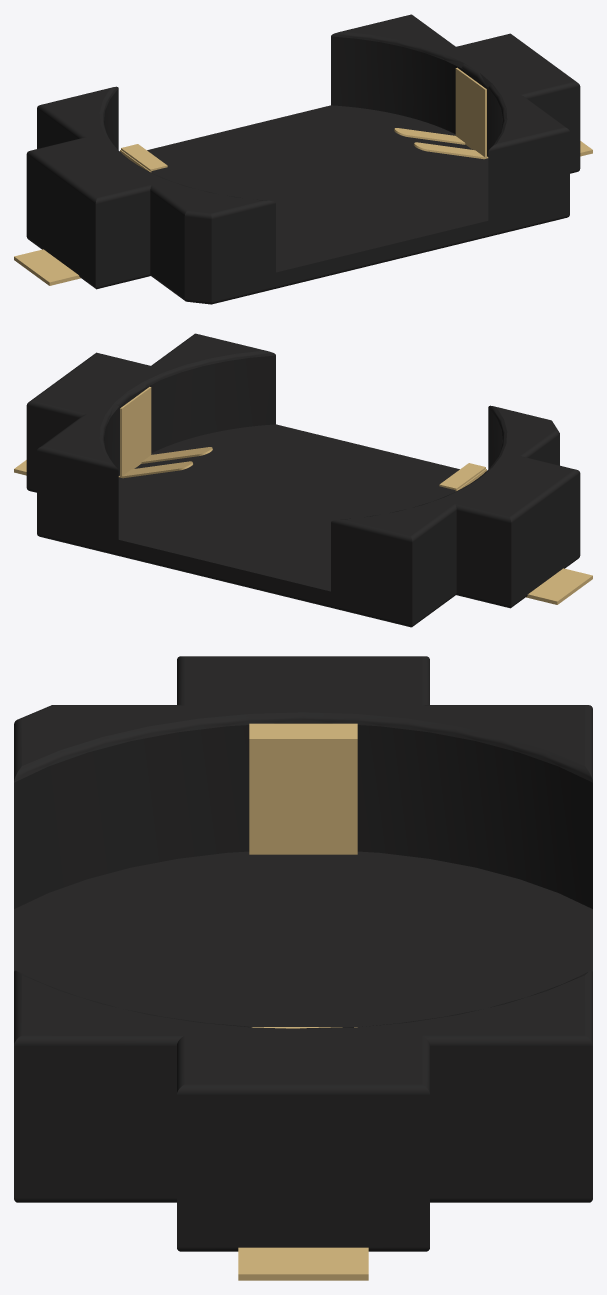
Rendered from kc-batteryholder_keystone_1060_1x2032.glb.
3 renders of one model, top to bottom at view 1: azimuth 30°, elevation 25°; view 2: azimuth 150°, elevation 25°; view 3: azimuth 270°, elevation 25°, orthographic. The views are drawn at different scales.
Visible parts, largest first — view 1: 0_0_0_0, 0.75_0.5_0.25_0.9; view 2: 0_0_0_0, 0.75_0.5_0.25_0.9; view 3: 0_0_0_0, 0.75_0.5_0.25_0.9.
Boxes of the visible parts, box(x1,y1,x2,y2) form: 0_0_0_0: box(26, 14, 580, 304); 0.75_0.5_0.25_0.9: box(14, 67, 592, 285); 0_0_0_0: box(26, 333, 580, 627); 0.75_0.5_0.25_0.9: box(14, 387, 592, 604); 0_0_0_0: box(14, 656, 592, 1251); 0.75_0.5_0.25_0.9: box(238, 723, 368, 1280).
Bounding box in the file's own units: 3.19 × 0.5079 × 1.6.
